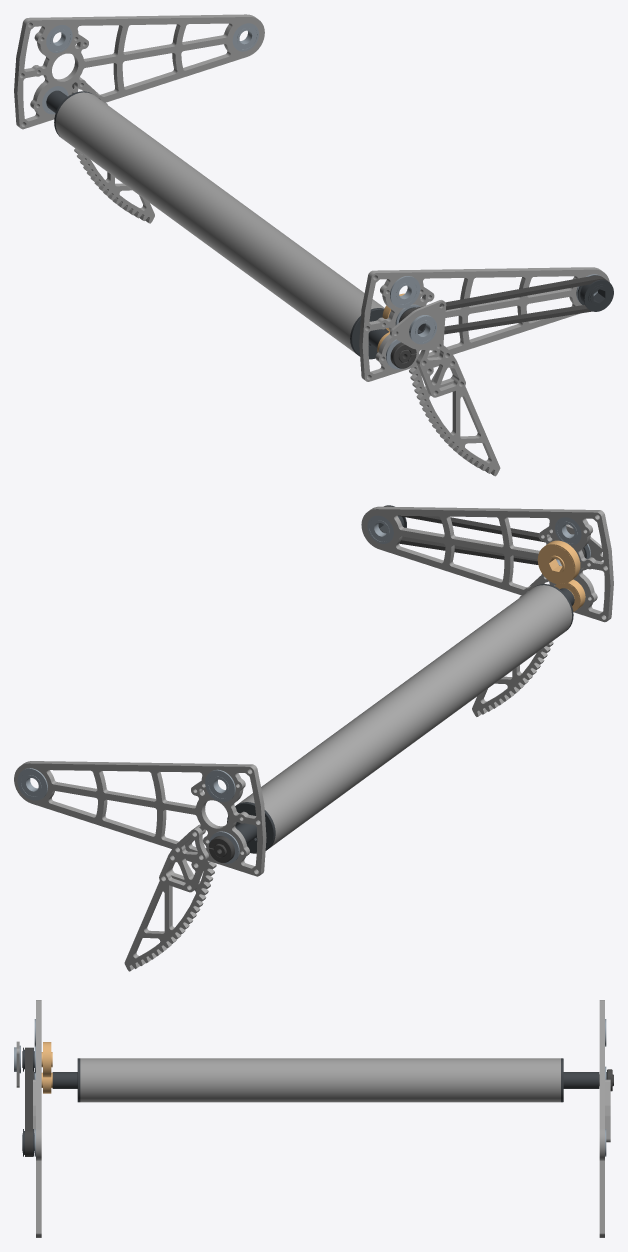
The picture shows the model from 3 angles, top to bottom: view 1: azimuth 30°, elevation 25°; view 2: azimuth 150°, elevation 25°; view 3: azimuth 270°, elevation 25°; orthographic projection. The views are drawn at different scales.
Parts seen in each view (by area): view 1: 2" Tube, 26G0504Hood Plate (×2), 26G0506Gaer (×2), 5mmBelt-95-9mm-15-18, 26G0505Gear grabber, 26G0507Hood reverse, 18T 9mm Hex Pulley (WCP-0563), 1/2" Thunder Flanged; view 2: 2" Tube, 26G0504Hood Plate (×2), 26G0506Gaer (×2), 5mmBelt-95-9mm-15-18, 26G0505Gear grabber, 1/2" Thunder Flanged (×2), 30T 20DP 1/2" Alum, 2' Hub; view 3: 2" Tube, 26G0504Hood Plate (×2), 26G0506Gaer (×2), 5mmBelt-95-9mm-15-18, 1" L 1/2" Hex Spacer (×2), 26G0505Gear grabber, 30T 20DP 1/2" Alum.
Part boxes in pixels (x1,y1,x2,y2): 2" Tube: [55, 92, 384, 352]; 26G0504Hood Plate (×2): [14, 14, 609, 381]; 26G0506Gaer (×2): [74, 102, 500, 476]; 5mmBelt-95-9mm-15-18: [400, 275, 609, 334]; 26G0505Gear grabber: [416, 343, 465, 397]; 26G0507Hood reverse: [390, 300, 446, 350]; 18T 9mm Hex Pulley (WCP-0563): [577, 275, 613, 311]; 1/2" Thunder Flanged: [390, 276, 420, 308]; 2" Tube: [237, 585, 571, 847]; 26G0504Hood Plate (×2): [14, 506, 613, 876]; 26G0506Gaer (×2): [124, 595, 553, 971]; 5mmBelt-95-9mm-15-18: [384, 506, 585, 564]; 26G0505Gear grabber: [159, 827, 208, 892]; 1/2" Thunder Flanged (×2): [17, 768, 235, 802]; 30T 20DP 1/2" Alum: [537, 540, 580, 584]; 2' Hub: [227, 802, 275, 853]; 2" Tube: [80, 1058, 560, 1102]; 26G0504Hood Plate (×2): [36, 1000, 604, 1160]; 26G0506Gaer (×2): [36, 1160, 604, 1237]; 5mmBelt-95-9mm-15-18: [25, 1047, 32, 1156]; 1" L 1/2" Hex Spacer (×2): [55, 1072, 585, 1088]; 26G0505Gear grabber: [605, 1079, 610, 1142]; 30T 20DP 1/2" Alum: [41, 1042, 52, 1077].
Bounding box in the file's own units: 0.2681 × 0.2408 × 0.6898.
